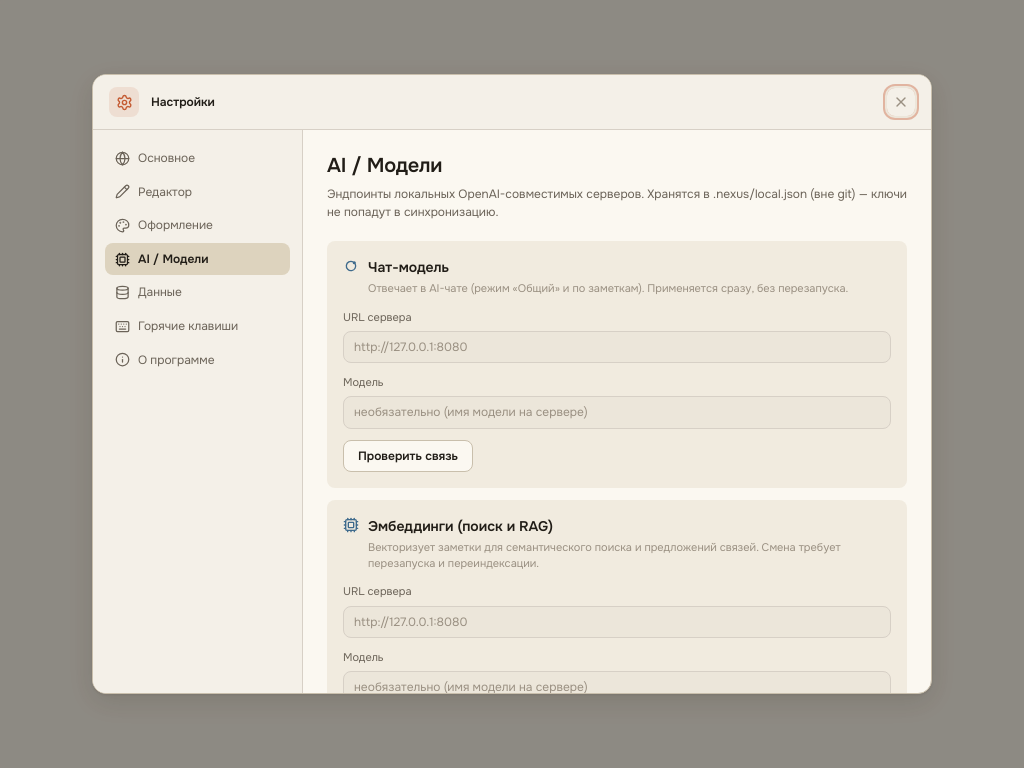
Scenario: SettingsView (кросс-план #11, оболочка раздела) › AI-секция (слайс 2): рендерит форму, проверяет связь и сохраняет
The image size is (1024, 768).
Expected: the text "Чат-модель" is shown, [368,258,449,276]
Expected: the text "Эмбеддинги (поиск и RAG)" is shown, [368,517,553,535]
Ввести chat URL и проверить связь → бейдж «Доступен» (мок резолвит валидный URL).
Type "http://192.168.0.172:8080" into the field with placeholder "http://127.0.0.1:8080" below "Чат-модель".
click(617, 347); type("http://192.168.0.172:8080")  # box [343,331,891,363]
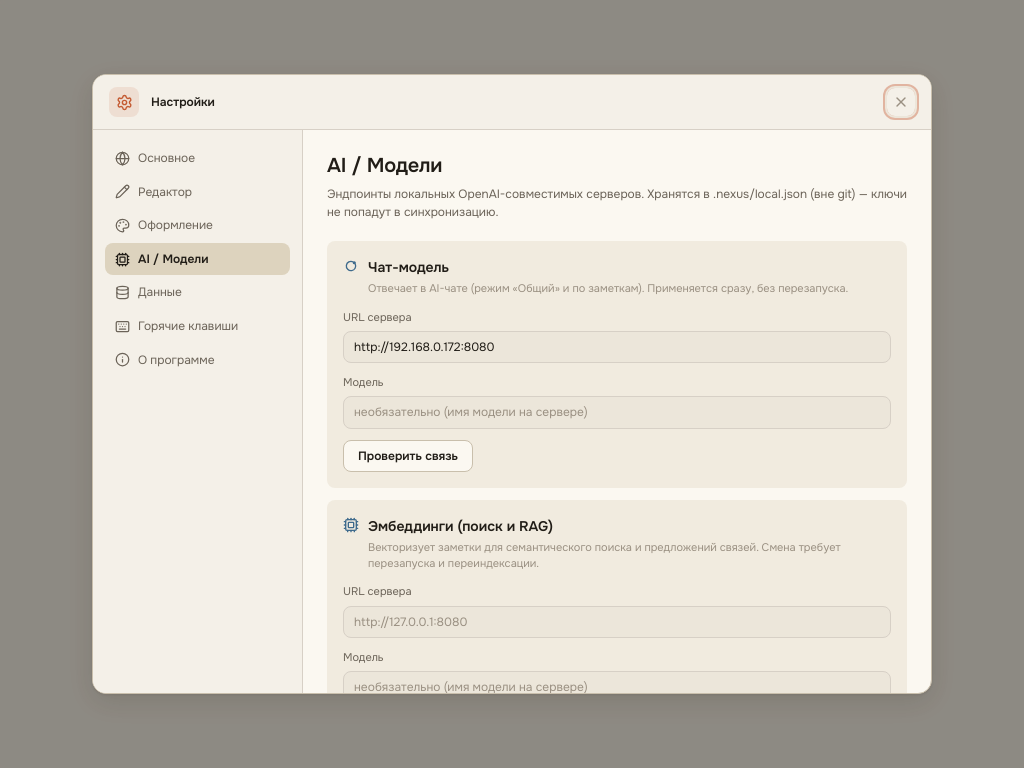
Click the button "Проверить связь".
click(408, 456)  # box [343,440,473,472]
(page scrolled)
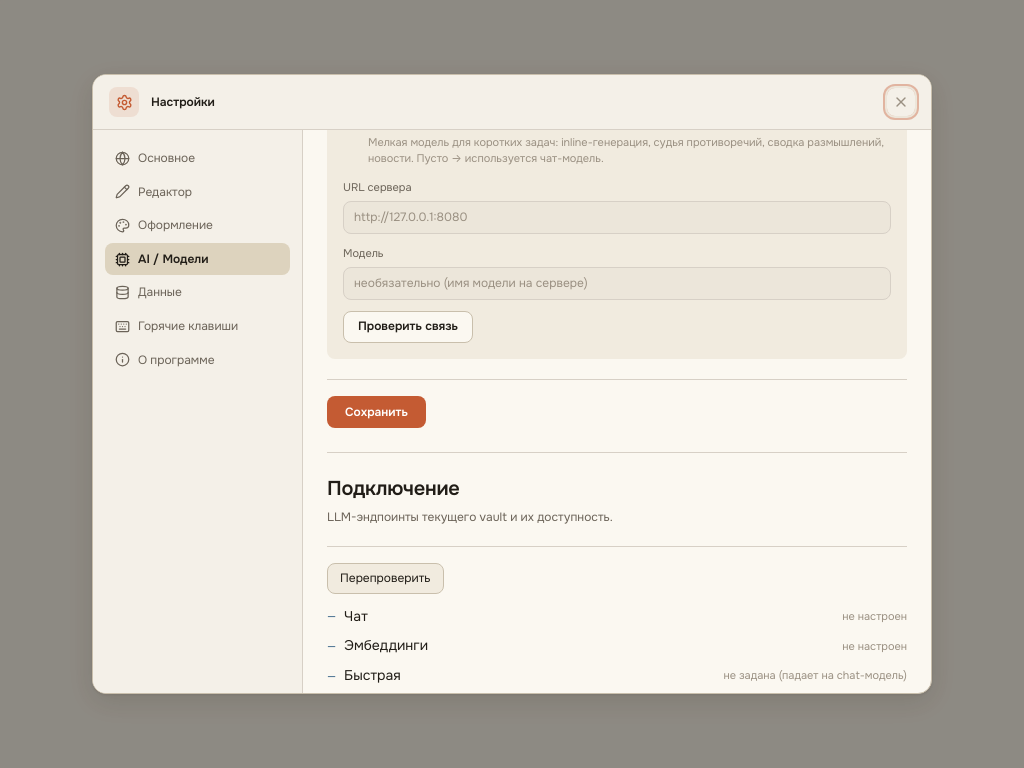
Сохранить → подтверждение (embedding не менялся → без требования перезапуска).
Click the button "Сохранить".
click(376, 412)  # box [327,396,426,428]
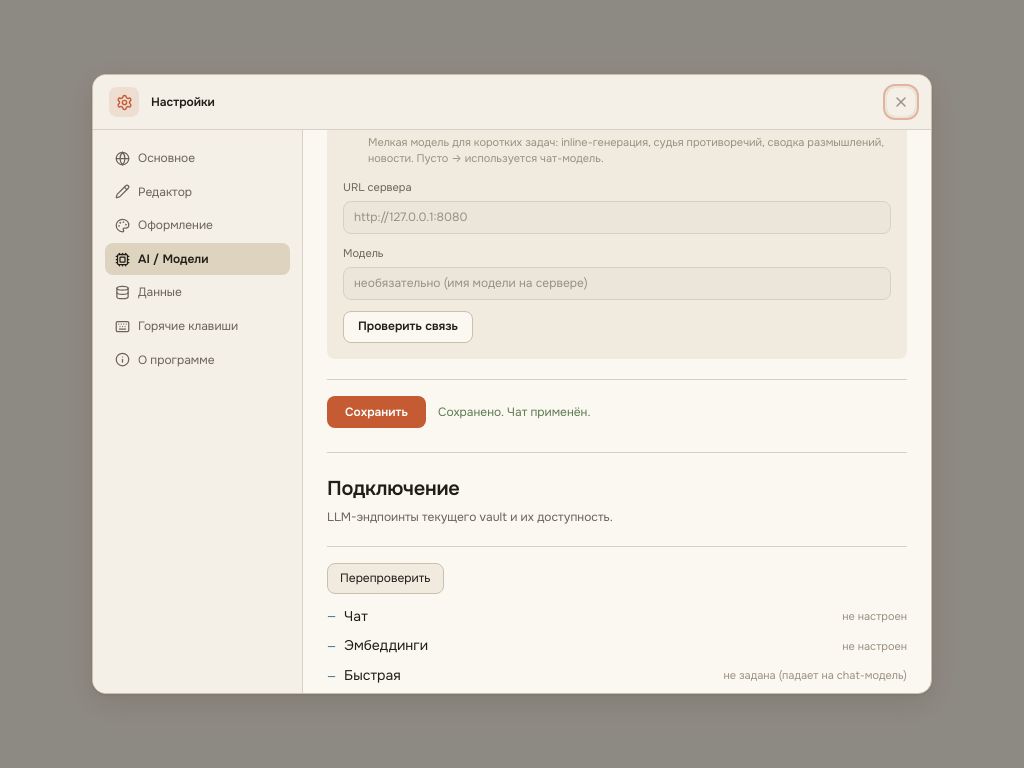
Now the text "Сохранено. Чат применён." is shown, box [438,403,590,421]
